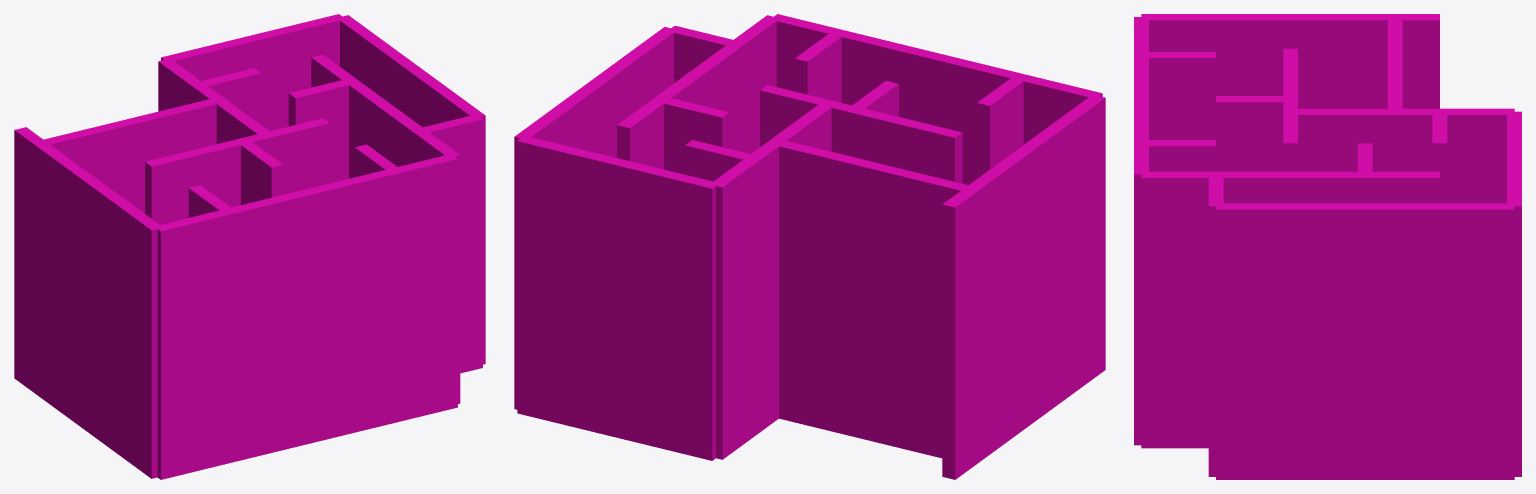
The model's file is Maze 2 Walls.fbx.
The picture shows the model from 3 angles, left to right: view 1: azimuth 30°, elevation 25°; view 2: azimuth 150°, elevation 25°; view 3: azimuth 270°, elevation 25°; orthographic projection. The views are drawn at different scales.
Visible parts, largest first — view 1: Cube.045, Cube.047, Cube.046, Cube.048, Cube.049, Cube.038, Cube.035, Cube.037, Cube.036, Cube.032, Cube.040, Cube.034 (+23 smaller); view 2: Cube.033, Cube.034, Cube.053, Cube.040, Cube.041, Cube.035, Cube.062, Cube.039, Cube.037, Cube.038, Cube.036, Cube.059 (+23 smaller); view 3: Cube.065, Cube.064, Cube.066, Cube.063, Cube.006, Cube.036, Cube.057, Cube.035, Cube.062, Cube.037, Cube.052, Cube.059 (+23 smaller).
Part boxes in pixels (x1,y1,x2,y2): Cube.045: [157, 212, 220, 479]; Cube.047: [273, 183, 338, 450]; Cube.046: [214, 197, 279, 465]; Cube.048: [333, 170, 398, 436]; Cube.049: [395, 155, 457, 421]; Cube.038: [117, 202, 162, 478]; Cube.035: [14, 127, 60, 403]; Cube.037: [83, 177, 128, 453]; Cube.036: [48, 152, 94, 428]; Cube.032: [420, 116, 482, 373]; Cube.040: [97, 112, 163, 213]; Cube.034: [221, 28, 286, 131]; Cube.033: [647, 167, 719, 460]; Cube.034: [582, 151, 654, 444]; Cube.053: [517, 135, 589, 428]; Cube.040: [837, 155, 909, 448]; Cube.041: [773, 139, 844, 432]; Cube.035: [942, 177, 992, 479]; Cube.062: [714, 157, 759, 459]; Cube.039: [902, 171, 972, 458]; Cube.037: [1017, 122, 1067, 424]; Cube.038: [1055, 94, 1105, 396]; Cube.036: [980, 149, 1030, 451]; Cube.059: [747, 129, 797, 431]; Cube.065: [1290, 203, 1365, 479]; Cube.064: [1365, 203, 1439, 479]; Cube.066: [1216, 203, 1290, 479]; Cube.063: [1440, 203, 1514, 479]; Cube.006: [1141, 171, 1215, 448]; Cube.036: [1290, 14, 1365, 108]; Cube.057: [1141, 52, 1215, 139]; Cube.035: [1365, 14, 1439, 108]; Cube.062: [1440, 108, 1514, 203]; Cube.037: [1216, 14, 1290, 95]; Cube.052: [1216, 96, 1290, 171]; Cube.059: [1365, 108, 1439, 171].
Bounding box in the file's own units: 310 × 200 × 260.
